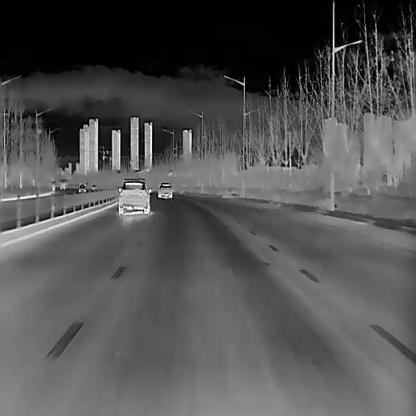car: (118, 176, 150, 213), (156, 182, 172, 198), (78, 182, 85, 192)
truck: (59, 178, 66, 188)
